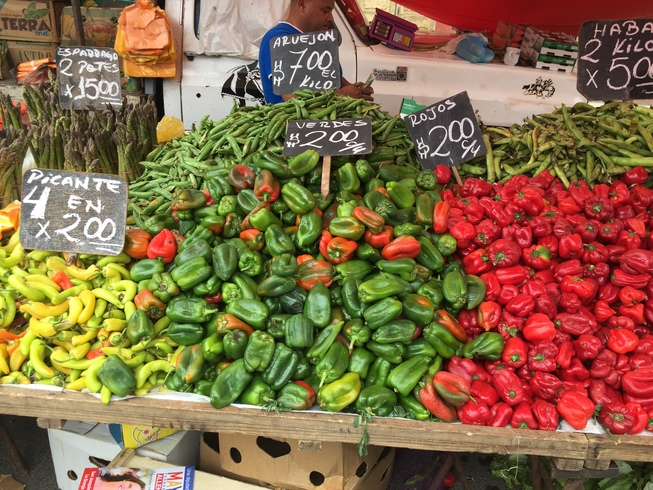precio: (16, 162, 134, 262), (398, 90, 493, 173), (573, 13, 653, 100), (267, 24, 346, 97), (279, 112, 379, 169), (50, 44, 131, 113)
